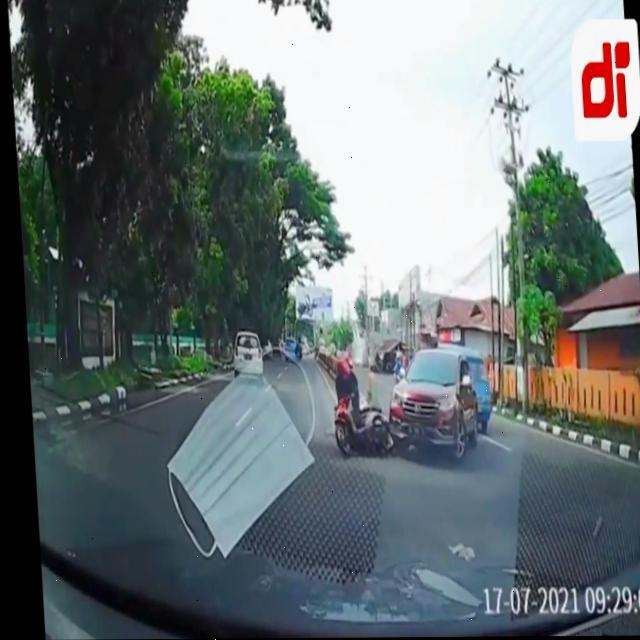multiple_accident: (293, 268, 548, 525)
